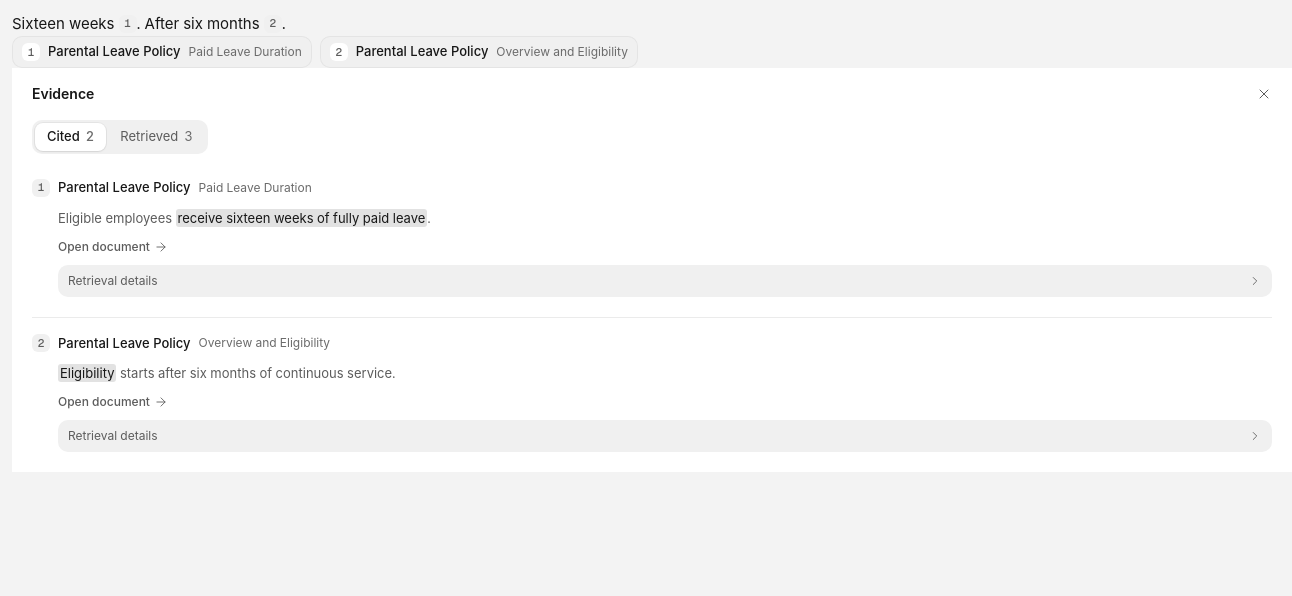
EvidencePanel › puts collapsed retrieval details below Open document for admins
Expected: the text "nw_hr_parental_leave:c02" is not shown
Click the button "Retrieval details" below "Eligible employees": coordinates (113, 280) x1=58 y1=264 x2=1272 y2=296
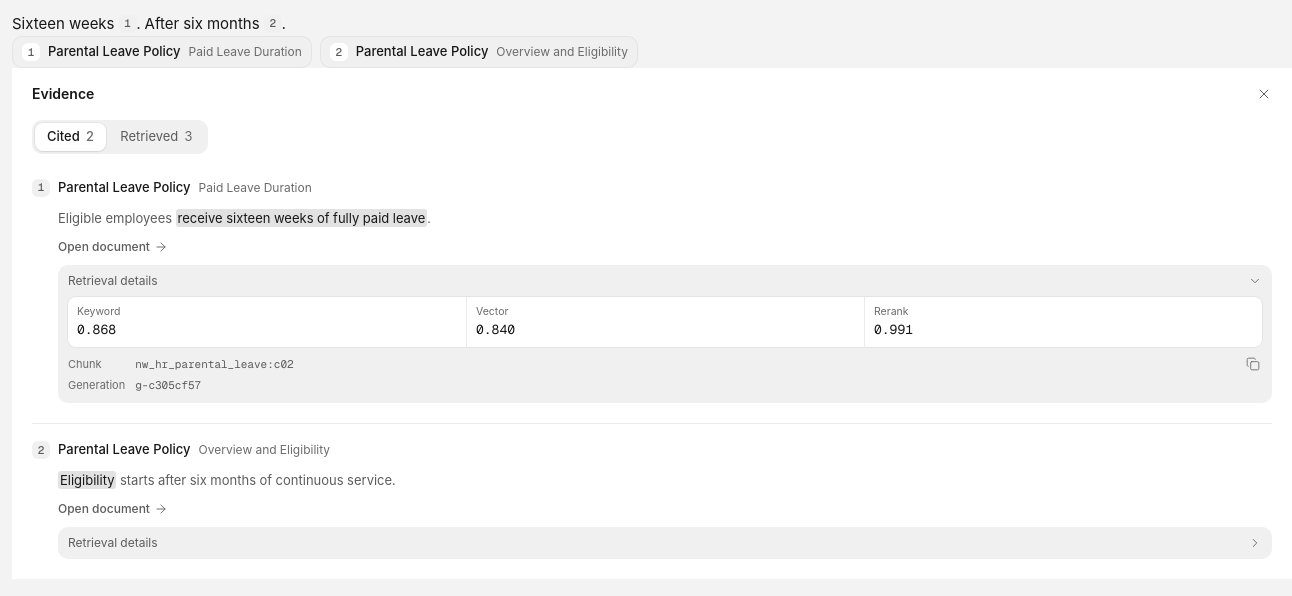
Expected: the text "0.868" is shown, x1=77 y1=321 x2=116 y2=338
Expected: the text "0.840" is shown, x1=476 y1=321 x2=515 y2=338
Expected: the text "0.991" is shown, x1=874 y1=321 x2=913 y2=338
